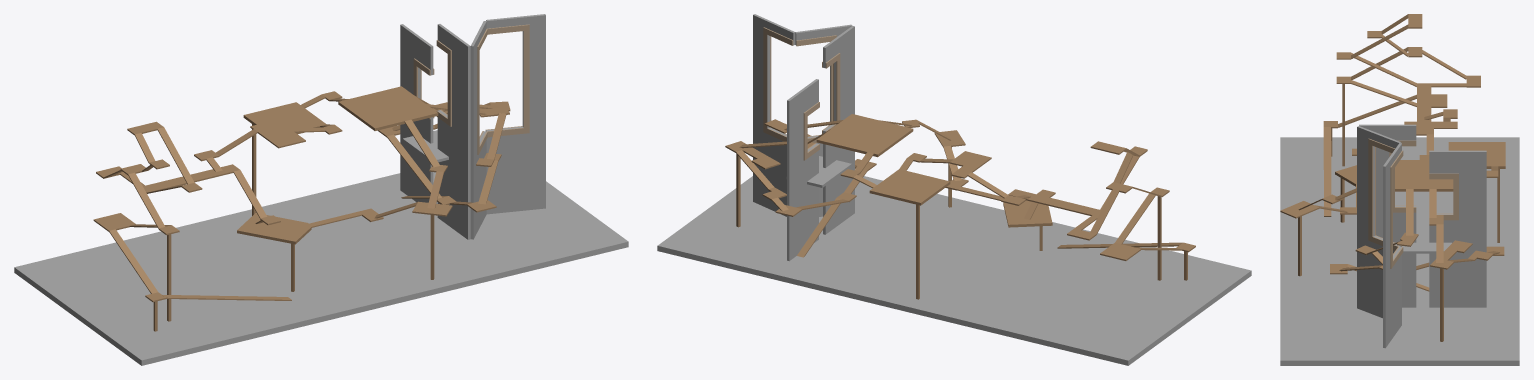
The model's file is 03_DING.glb.
The picture shows the model from 3 angles, left to right: view 1: azimuth 30°, elevation 25°; view 2: azimuth 150°, elevation 25°; view 3: azimuth 270°, elevation 25°; orthographic projection. The views are drawn at different scales.
Visible parts, largest first — view 1: 01 DIZUO, 02 JIE, 03 DING; view 2: 01 DIZUO, 03 DING, 02 JIE; view 3: 01 DIZUO, 03 DING, 02 JIE.
Boxes of the visible parts, x1,y1,x2,y2 form: 01 DIZUO: [14, 86, 628, 365]; 02 JIE: [470, 14, 545, 239]; 03 DING: [400, 24, 470, 239]; 01 DIZUO: [657, 114, 1251, 365]; 03 DING: [786, 26, 854, 261]; 02 JIE: [753, 14, 852, 216]; 01 DIZUO: [1280, 14, 1519, 365]; 03 DING: [1359, 124, 1486, 307]; 02 JIE: [1357, 126, 1403, 348].
Size of the model in its own units: 9.23 by 3.6 by 4.18.
